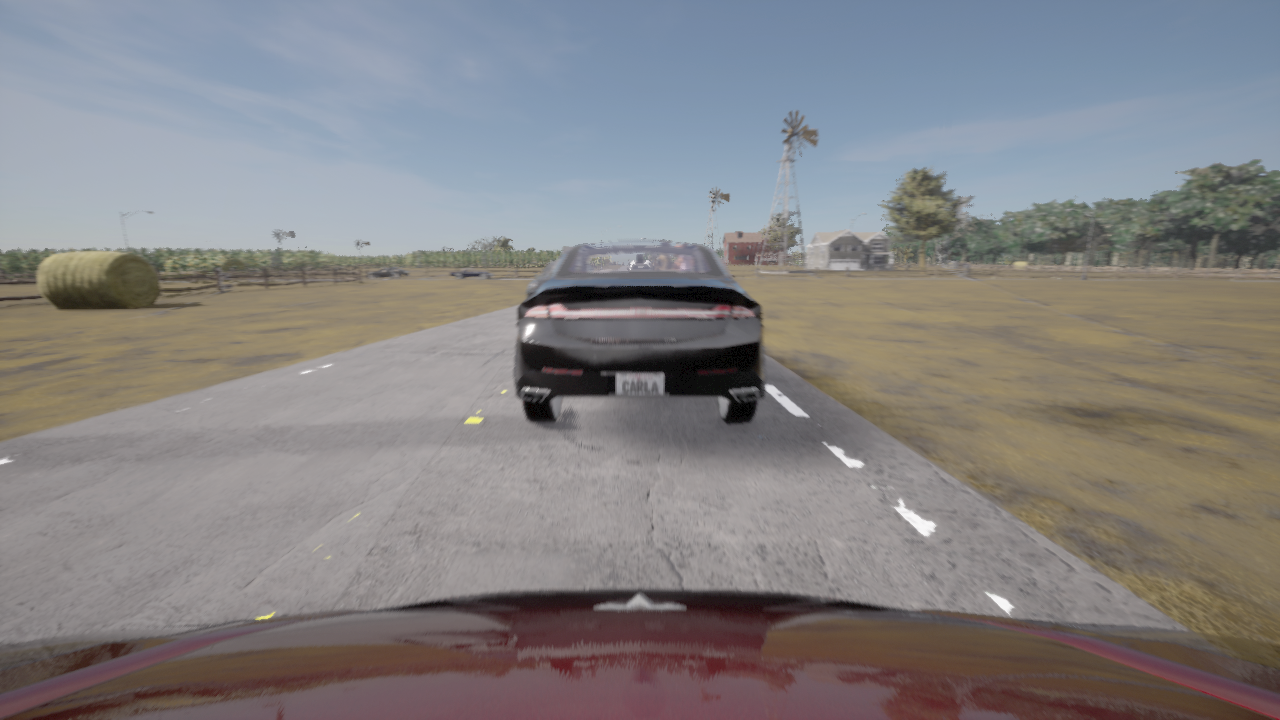cyclist: (0, 588, 1279, 719), (514, 240, 765, 422), (527, 261, 556, 297), (366, 266, 409, 278), (449, 268, 494, 278)
